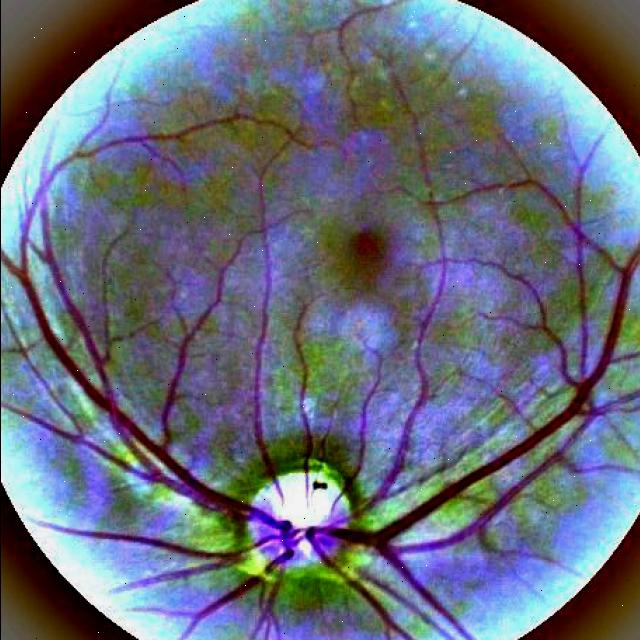Macula: (352, 233, 378, 260)
Nerves: (305, 528, 372, 546)
Optic Disk: (240, 459, 349, 581)
